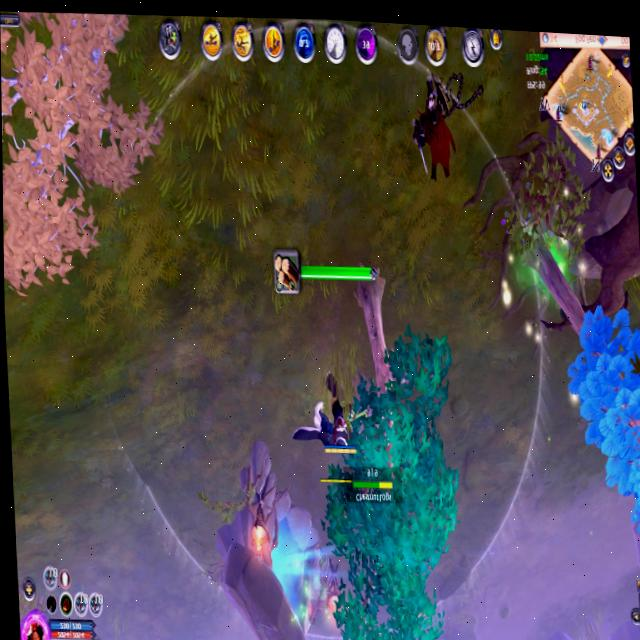ore: (396, 65, 462, 206)
red: (317, 363, 358, 459)
wisp caged: (306, 253, 467, 640), (0, 5, 174, 314), (511, 214, 640, 553)
